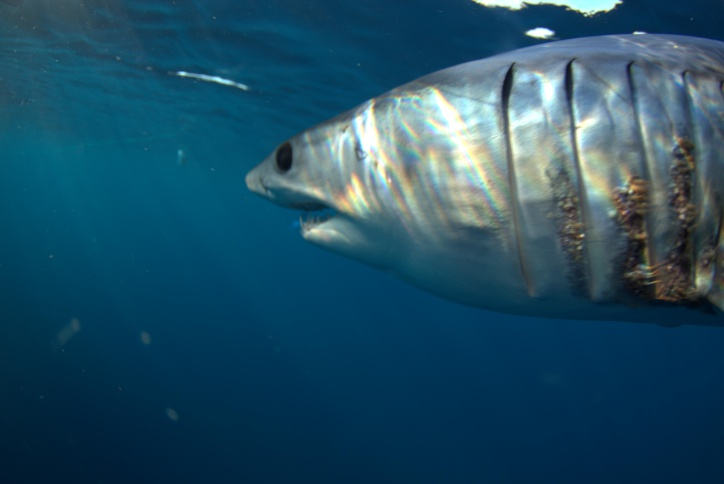Mako: (232, 31, 724, 343)
